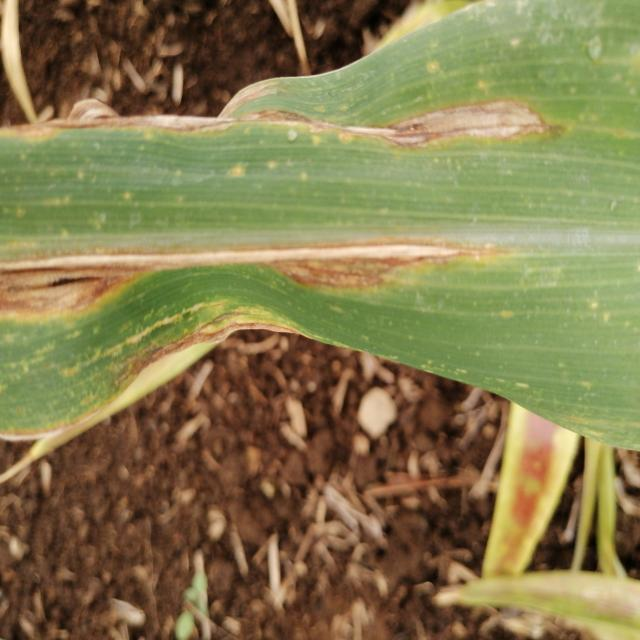Corn_Leaf_Blight: (0, 0, 640, 455)
